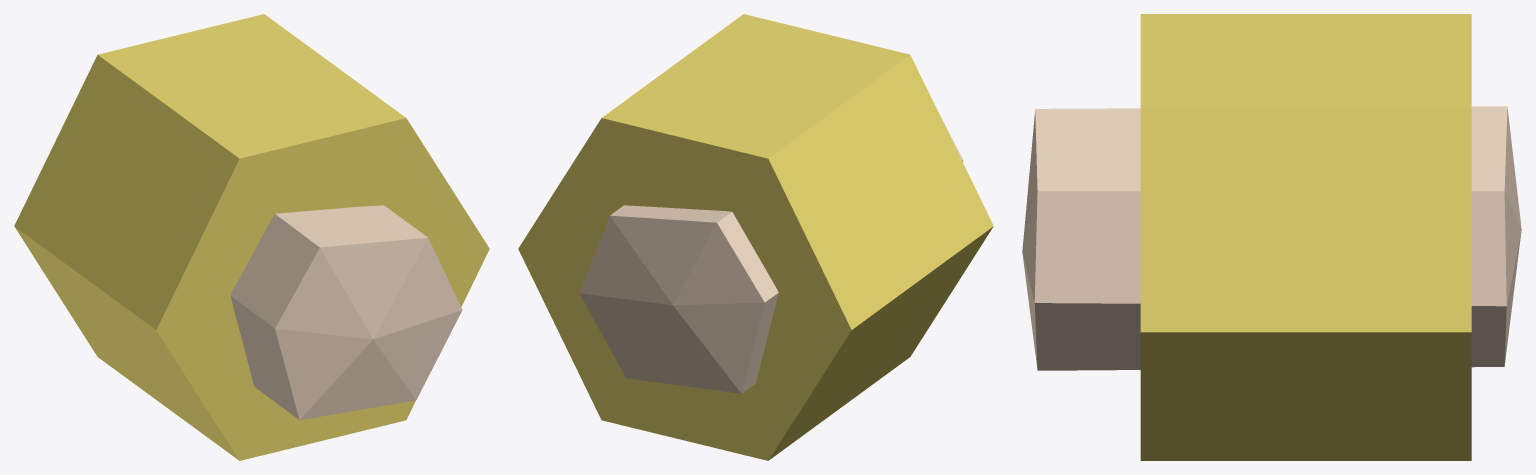
The model's file is Nut-n-Bolt.fbx.
3 renders of one model, left to right at view 1: azimuth 30°, elevation 25°; view 2: azimuth 150°, elevation 25°; view 3: azimuth 270°, elevation 25°, orthographic. The views are drawn at different scales.
Parts seen in each view (by area): view 1: Cylinder, Bolts.006; view 2: Cylinder, Bolts.006; view 3: Cylinder, Bolts.006.
Boxes of the visible parts, x1,y1,x2,y2 form: Cylinder: (14, 14, 489, 460); Bolts.006: (230, 205, 462, 420); Cylinder: (518, 14, 993, 460); Bolts.006: (579, 108, 963, 393); Cylinder: (1140, 14, 1471, 460); Bolts.006: (1022, 106, 1521, 370).
Bounding box in the file's own units: 7.36 × 6.62 × 5.73.
